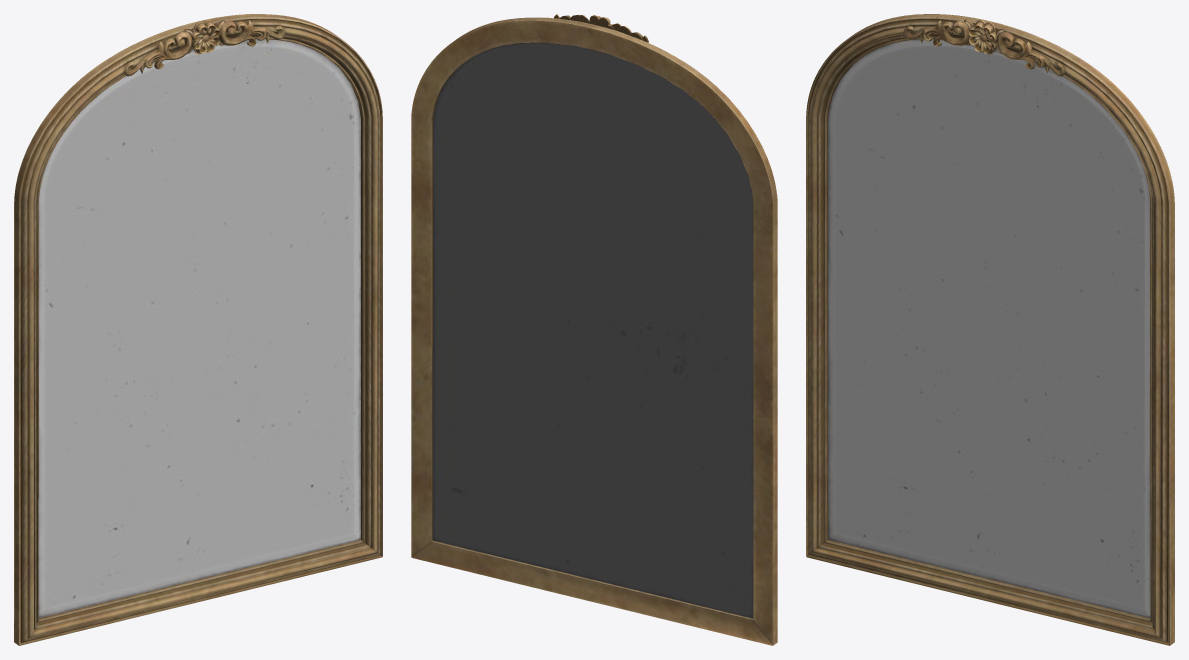
The model's file is ornate_mirror_01.glb.
3 renders of one model, left to right at view 1: azimuth 30°, elevation 25°; view 2: azimuth 150°, elevation 25°; view 3: azimuth 330°, elevation 25°, orthographic.
Visible parts, largest first — view 1: ornate_mirror_01; view 2: ornate_mirror_01; view 3: ornate_mirror_01.
Part boxes in pixels (x1,y1,x2,y2): ornate_mirror_01: [14, 14, 382, 645]; ornate_mirror_01: [411, 14, 777, 645]; ornate_mirror_01: [806, 14, 1174, 645].
Bounding box in the file's own units: 0.4865 × 0.7442 × 0.026.
Materials: 1 (1 with a texture image).
